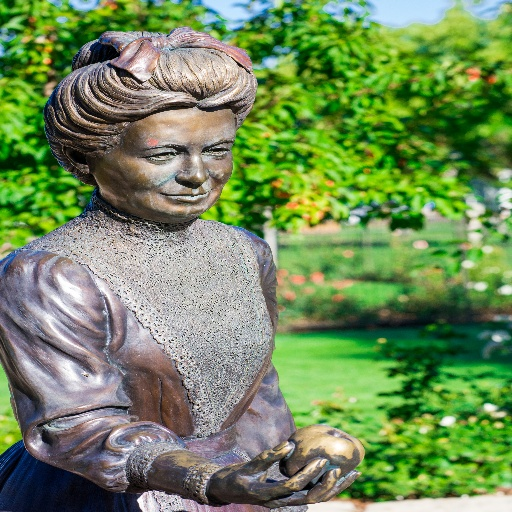hand: (220, 423, 369, 499)
